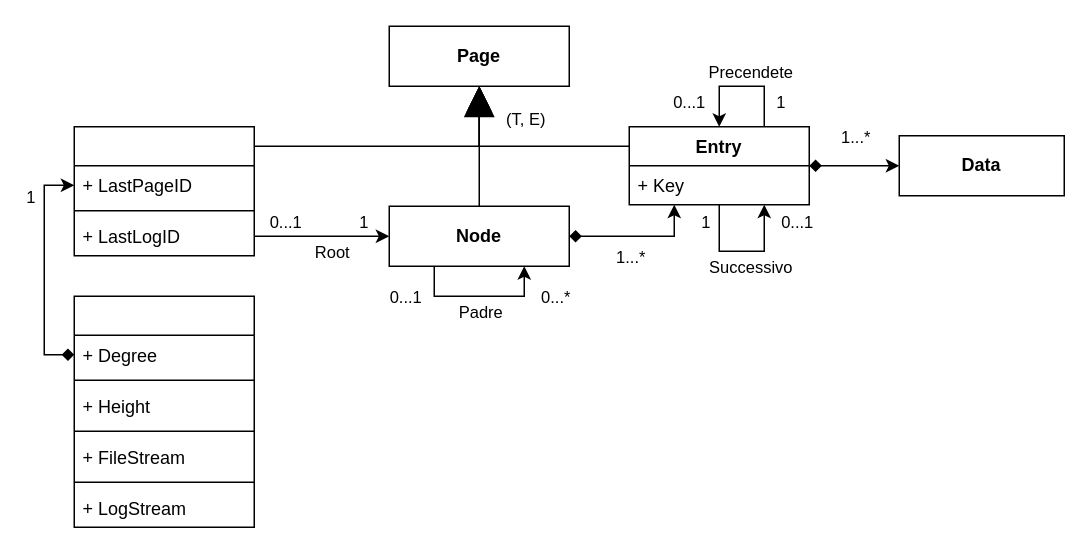
The diagram is 1091 pixels wide and 558 high, and some of its shapes have lost their labels. The shapes that lost their labels are listed below. From the top down, each one's box as (x1, y1, x2, y2) in pixels, then its label:
(73, 125, 254, 256): Boot
(73, 295, 254, 527): BTree
